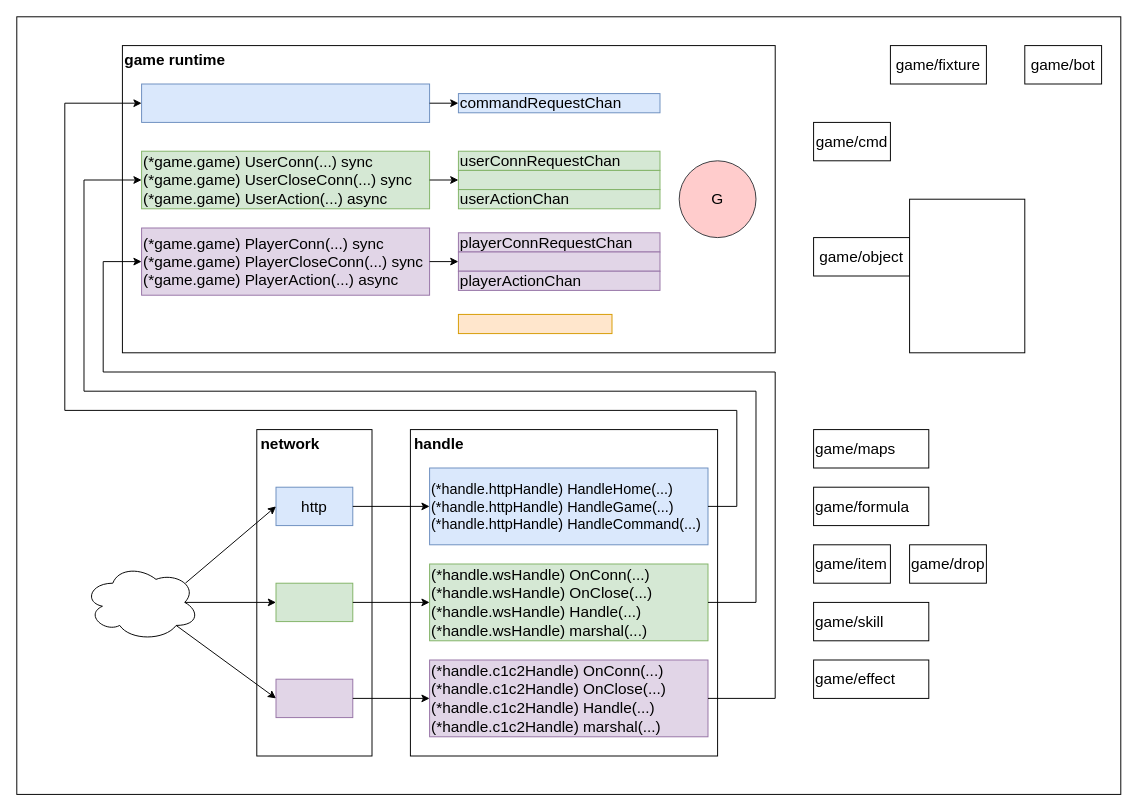
Image size: 1138x811. Some labels were removed from this diagram. Each missing label, with the centre of its shape:
"(*game.game) Command(...) sync" belongs at (x=285, y=102).
"c12(tcp)" belongs at (x=314, y=698).
"cloud" belongs at (x=141, y=602).
"object viewport object move object attack object item object skill object effect" belongs at (x=967, y=275).
"playerCloseConnRequestChan" belongs at (x=558, y=261).
"t100ms.C" belongs at (x=534, y=323).
"userCloseConnRequestChan" belongs at (x=558, y=179).
"websocket" belongs at (x=314, y=602).
